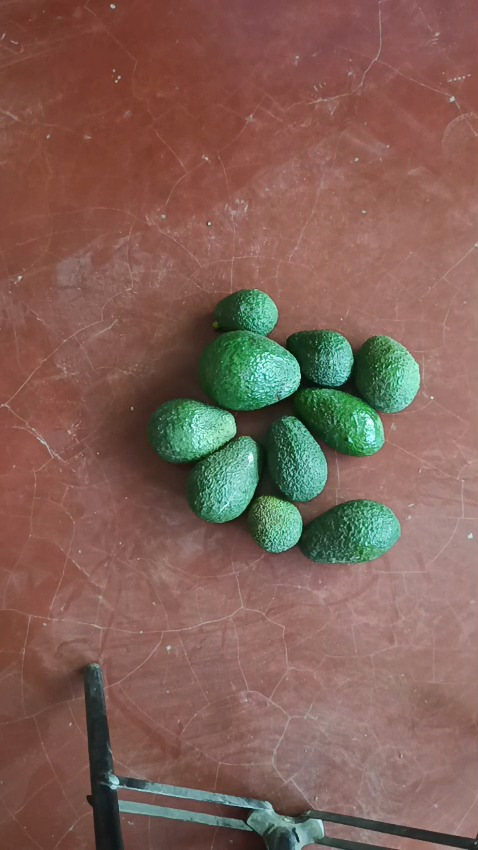Primera: (198, 331, 301, 411)
Segunda: (186, 435, 262, 522), (291, 386, 384, 457), (300, 499, 402, 563), (147, 399, 237, 464), (353, 335, 421, 413), (265, 415, 326, 501)
Tercera: (284, 329, 354, 388), (245, 494, 302, 552), (211, 289, 278, 337)
